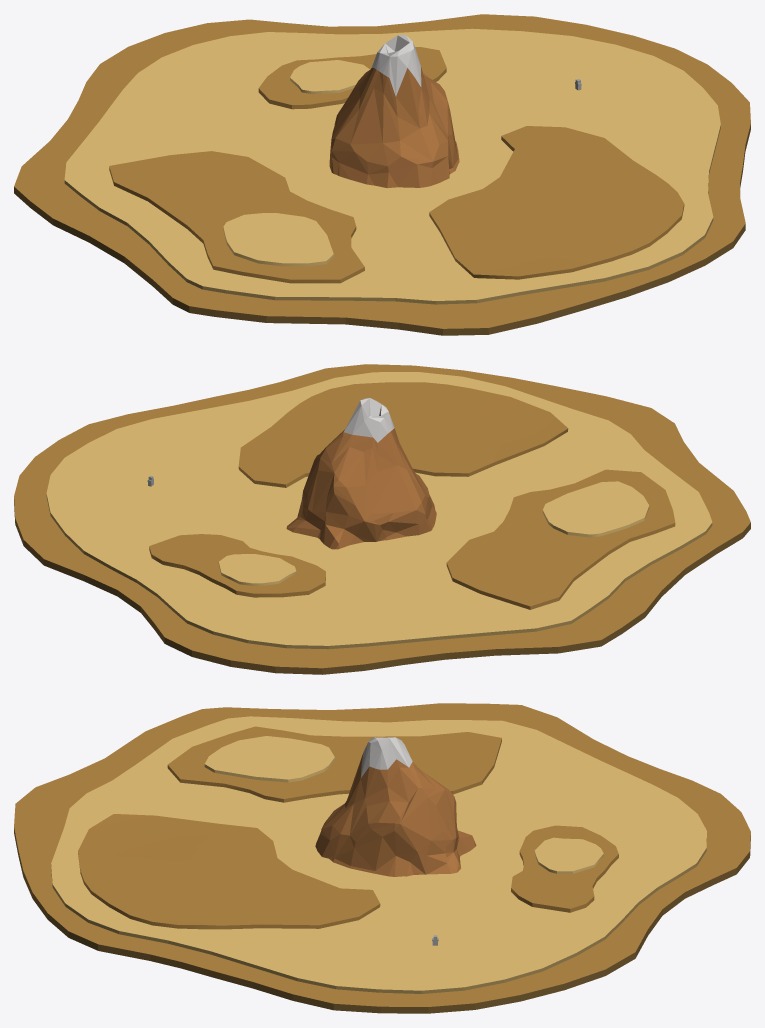
3 renders of one model, top to bottom at view 1: azimuth 30°, elevation 25°; view 2: azimuth 150°, elevation 25°; view 3: azimuth 270°, elevation 25°, orthographic. The views are drawn at different scales.
Parts seen in each view (by area): view 1: pDisc4, pDisc2, pDisc5, pDisc3, pasted__huoshan, pDisc7, pDisc6, pDisc8; view 2: pDisc4, pDisc2, pDisc5, pDisc3, pasted__huoshan, pDisc6, pDisc7, pDisc8; view 3: pDisc4, pDisc2, pDisc5, pasted__huoshan, pDisc3, pDisc6, pDisc7, pDisc8.
Boxes of the visible parts, left/top/right/bottom form: pDisc4: left=64, top=28, right=720, bottom=304; pDisc2: left=14, top=14, right=750, bottom=335; pDisc5: left=429, top=126, right=684, bottom=279; pDisc3: left=109, top=151, right=364, bottom=283; pasted__huoshan: left=329, top=35, right=459, bottom=188; pDisc7: left=223, top=213, right=333, bottom=266; pDisc6: left=258, top=47, right=446, bottom=109; pDisc8: left=290, top=60, right=369, bottom=94; pDisc4: left=46, top=372, right=712, bottom=649; pDisc2: left=14, top=364, right=750, bottom=674; pDisc5: left=238, top=382, right=568, bottom=487; pDisc3: left=446, top=469, right=675, bottom=609; pasted__huoshan: left=286, top=398, right=436, bottom=549; pDisc6: left=149, top=534, right=325, bottom=597; pDisc7: left=542, top=481, right=649, bottom=537; pDisc8: left=218, top=554, right=296, bottom=585; pDisc4: left=51, top=716, right=706, bottom=993; pDisc2: left=14, top=703, right=750, bottom=1013; pDisc5: left=78, top=814, right=380, bottom=929; pasted__huoshan: left=315, top=737, right=476, bottom=876; pDisc3: left=167, top=726, right=501, bottom=802; pDisc6: left=511, top=825, right=618, bottom=912; pDisc7: left=204, top=736, right=334, bottom=782; pDisc8: left=534, top=837, right=603, bottom=873.
Size of the model in its own units: 98.54 by 19.27 by 101.
